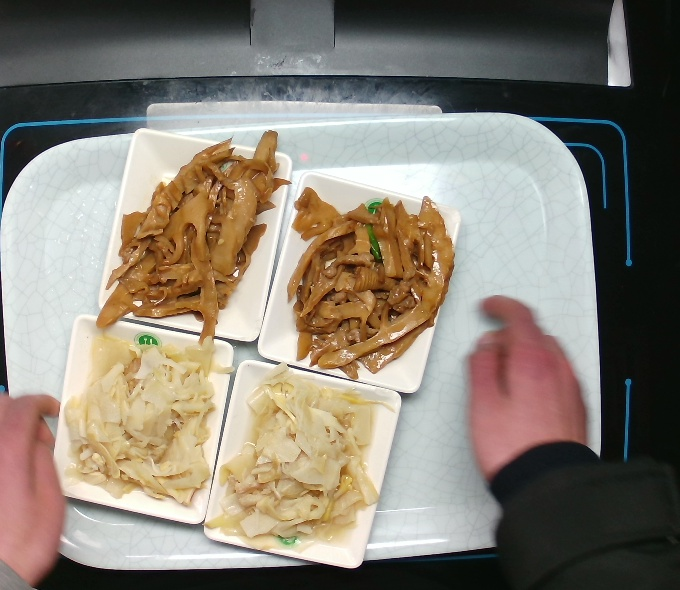wcq-LuSun: (208, 364, 392, 558), (55, 335, 232, 505)
wcq-SunGan: (92, 124, 290, 340), (272, 189, 462, 383)
